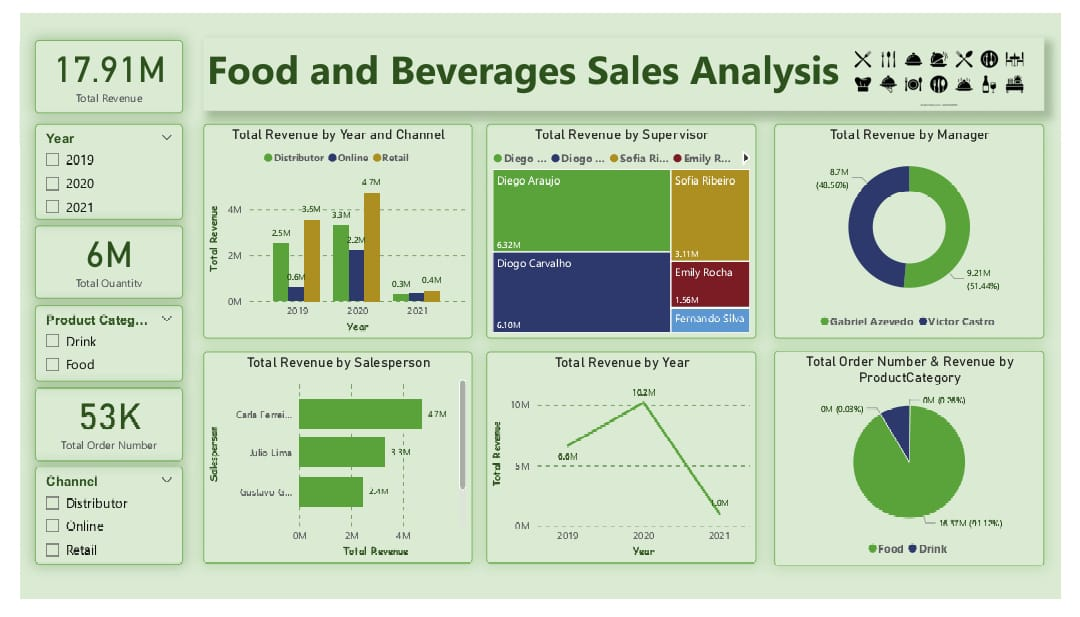

This screenshot's page, from the dashboard's own definition file:
{"tool":"powerbi","page":{"name":"Page 2","canvas":[1280,720],"ordinal":1},"visuals":[{"type":"textbox","box":[225.7,30,1034.3,90],"z":0},{"type":"card","fields":{"Values":["Products.Total Order Number"]},"box":[18.6,460,182.9,90],"z":1000},{"type":"card","fields":{"Values":["Products.Total Revenue"]},"box":[18.6,32.9,182.9,90],"z":2000},{"type":"card","fields":{"Values":["Products.Total Quantity"]},"box":[18.6,261.4,182.9,90],"z":3000},{"type":"clusteredColumnChart","fields":{"Category":["Sales.OrderDate.Variation.Date Hierarchy.Year"],"Y":["Products.Total Revenue"],"Series":["Sales.Channel"]},"box":[225.7,135.7,331.4,264.3],"z":4000},{"type":"treemap","fields":{"Values":["Products.Total Revenue"],"Group":["Sales.Supervisor"]},"box":[574,136.1,331.7,263.6],"z":5000},{"type":"donutChart","fields":{"Category":["Sales.Manager"],"Y":["Products.Total Revenue"]},"box":[928.3,136.1,331.7,263.6],"z":6000},{"type":"clusteredBarChart","fields":{"Y":["Products.Total Revenue"],"Category":["Sales.Salesperson"]},"box":[225.7,415.7,331.4,260],"z":7000},{"type":"lineChart","fields":{"Category":["Sales.OrderDate.Variation.Date Hierarchy.Year"],"Y":["Products.Total Revenue"]},"box":[574.3,415.7,331.4,260],"z":8000},{"type":"pieChart","title":"Total Order Number & Revenue by ProductCategory","fields":{"Y":["Products.Total Order Number","Products.Total Revenue"],"Category":["Products.ProductCategory"]},"box":[928.3,415.3,331.7,263.6],"z":9000},{"type":"slicer","title":"Channel","fields":{"Values":["Sales.Channel"]},"box":[18.6,557.1,182.9,120],"z":10000},{"type":"slicer","fields":{"Values":["Products.ProductCategory"]},"box":[18.6,358.6,182.9,94.3],"z":11000},{"type":"slicer","fields":{"Values":["Sales.OrderDate.Variation.Date Hierarchy.Year"]},"box":[18.6,135.7,182.9,118.6],"z":12000},{"type":"image","box":[1011.4,30,238.6,90],"z":13000}]}

Visuals, with their boxes in screenshot pixels (x1, y1, x2, y2), scaled from the page's 1280x720 canvas onto the 1080x617 screenshot:
textbox: bbox=[190, 26, 1063, 103]
card - Products.Total Order Number: bbox=[16, 394, 170, 471]
card - Products.Total Revenue: bbox=[16, 28, 170, 105]
card - Products.Total Quantity: bbox=[16, 224, 170, 301]
clusteredColumnChart - Sales.OrderDate.Variation.Date Hierarchy.Year x Products.Total Revenue: bbox=[190, 116, 470, 343]
treemap - Products.Total Revenue x Sales.Supervisor: bbox=[484, 117, 764, 343]
donutChart - Sales.Manager x Products.Total Revenue: bbox=[783, 117, 1063, 343]
clusteredBarChart - Products.Total Revenue x Sales.Salesperson: bbox=[190, 356, 470, 579]
lineChart - Sales.OrderDate.Variation.Date Hierarchy.Year x Products.Total Revenue: bbox=[485, 356, 764, 579]
"Total Order Number & Revenue by ProductCategory" pieChart: bbox=[783, 356, 1063, 582]
"Channel" slicer: bbox=[16, 477, 170, 580]
slicer - Products.ProductCategory: bbox=[16, 307, 170, 388]
slicer - Sales.OrderDate.Variation.Date Hierarchy.Year: bbox=[16, 116, 170, 218]
image: bbox=[853, 26, 1055, 103]
